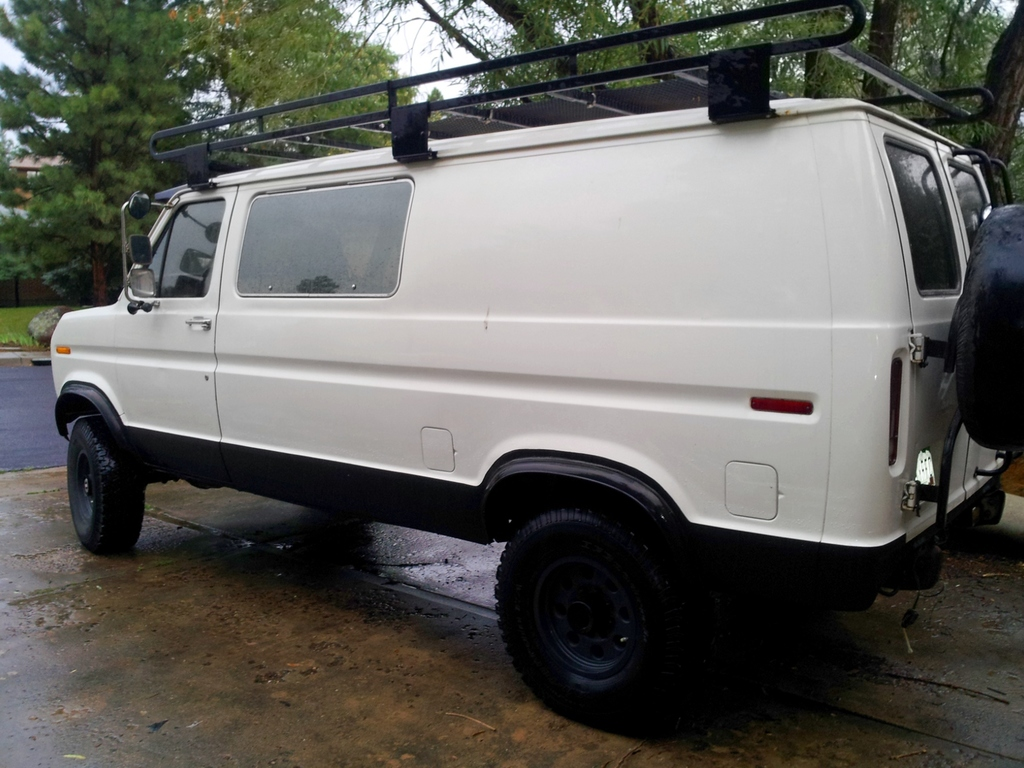Tree: (0, 0, 1024, 304)
